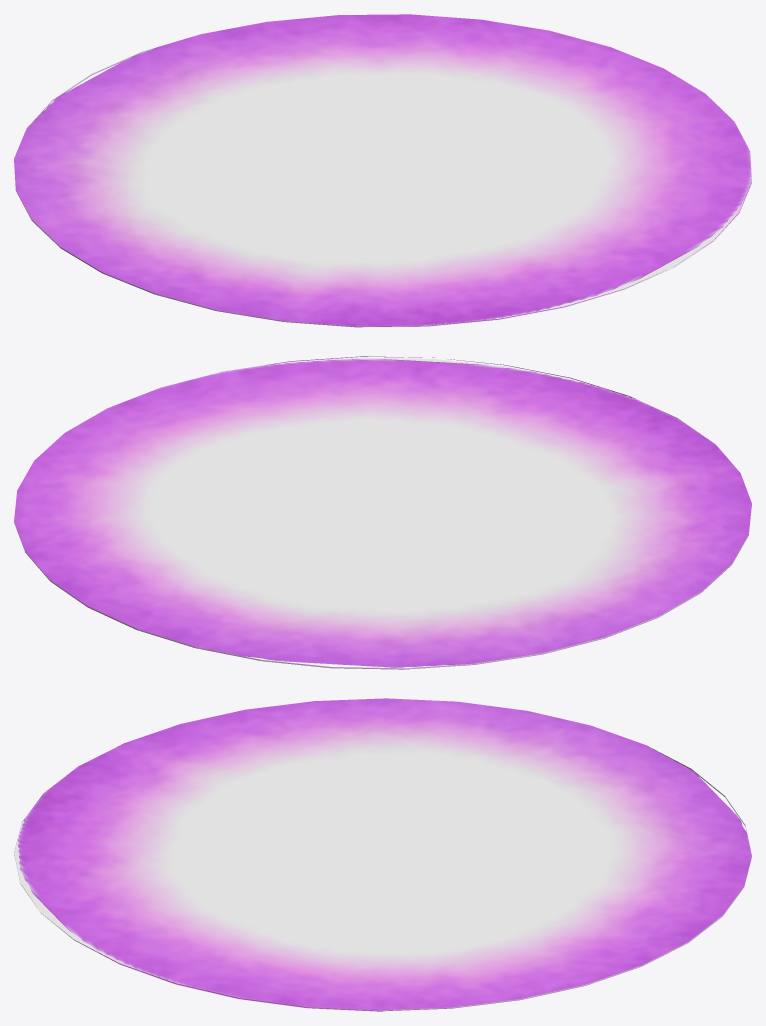
The model's file is led.obj.
The picture shows the model from 3 angles, top to bottom: view 1: azimuth 30°, elevation 25°; view 2: azimuth 150°, elevation 25°; view 3: azimuth 270°, elevation 25°; orthographic projection.
Visible parts, largest first — view 1: Cylinder; view 2: Cylinder; view 3: Cylinder.
Boxes of the visible parts, x1,y1,x2,y2 form: Cylinder: (14, 14, 751, 327); Cylinder: (14, 356, 751, 669); Cylinder: (14, 698, 751, 1011).
Bounding box in the file's own units: 0.00501 × 1e-05 × 0.00501.
Materials: 1 (1 with a texture image).
